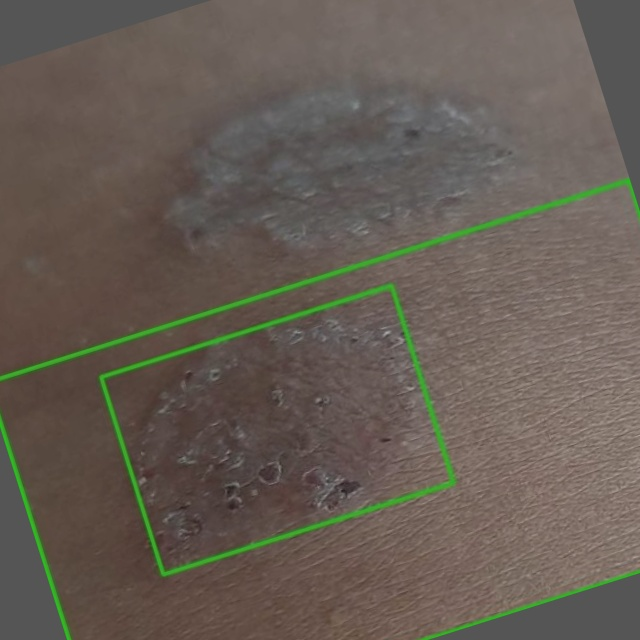Tinea Corporis: (0, 179, 639, 639), (101, 285, 454, 574)
